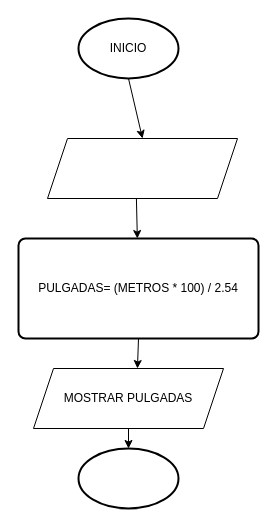
The diagram is 276 pixels wide and 526 high, and some of its shapes have lost their labels. Each missing label, with the centre of its shape:
"INGRESAR METROS": pixel 142 168
FIN: pixel 128 478
